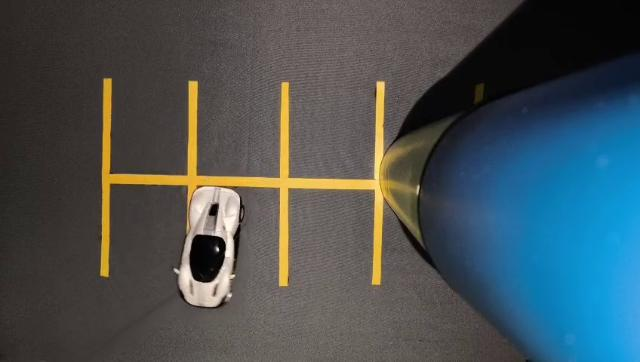toy_car: (166, 174, 261, 316)
